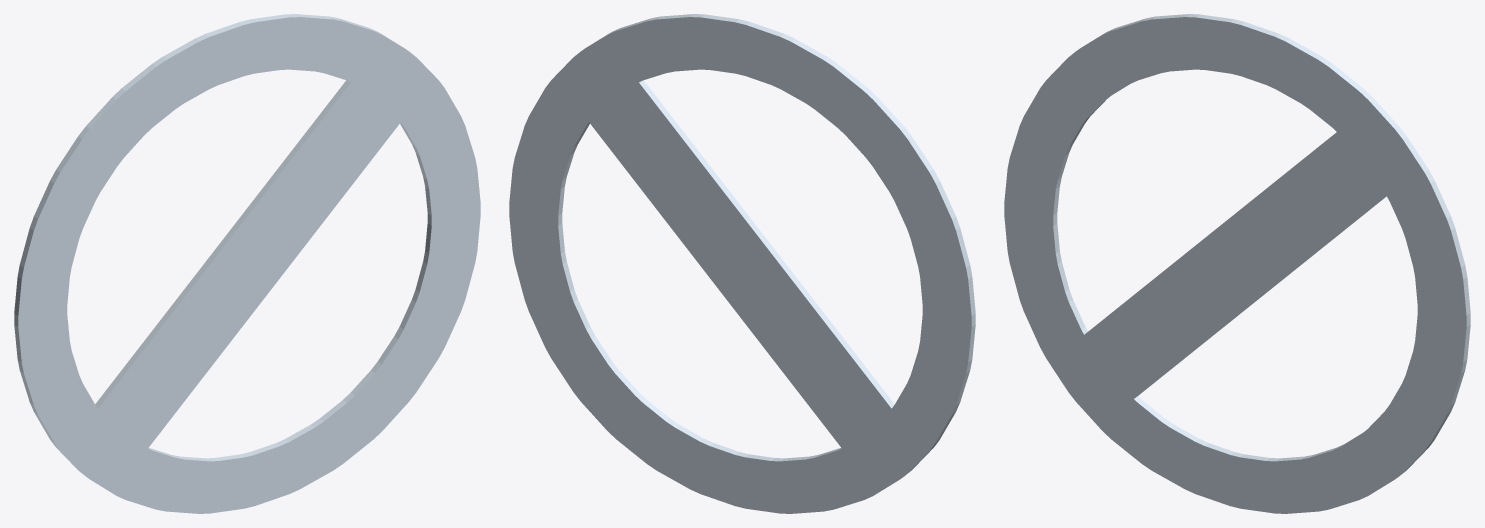
The model's file is Remove_3D_Icon.fbx.
3 renders of one model, left to right at view 1: azimuth 30°, elevation 25°; view 2: azimuth 150°, elevation 25°; view 3: azimuth 330°, elevation 25°, orthographic.
Visible parts, largest first — view 1: Remove_3D_Icon_01; view 2: Remove_3D_Icon_01; view 3: Remove_3D_Icon_01.
Part boxes in pixels (x1,y1,x2,y2): Remove_3D_Icon_01: (14,14,480,513); Remove_3D_Icon_01: (509,14,975,513); Remove_3D_Icon_01: (1004,14,1470,513).
Bounding box in the file's own units: 122 × 122 × 1.9.
